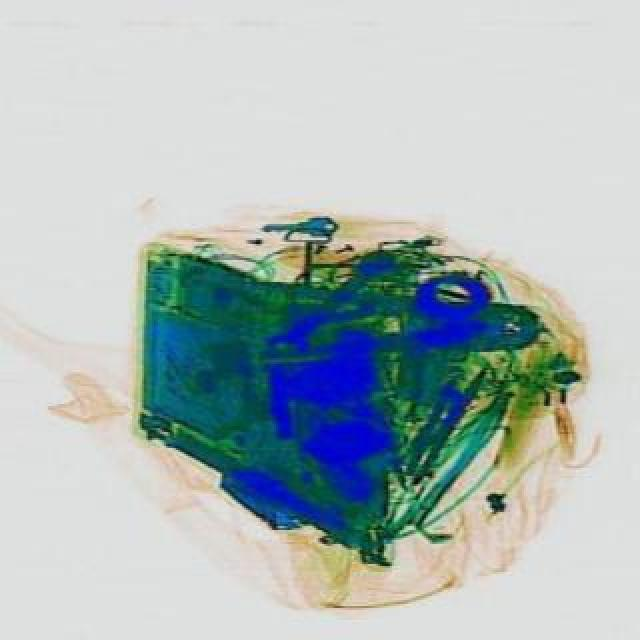scissors: (260, 244, 400, 372)
wrench: (248, 284, 538, 370)
